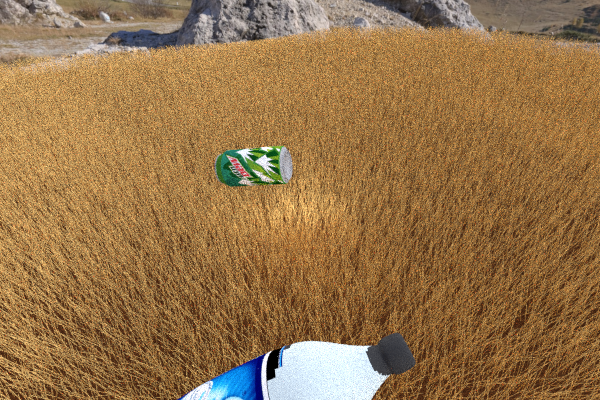Plastic Bottle: (33, 332, 415, 400), (214, 145, 292, 186), (387, 100, 419, 143)
